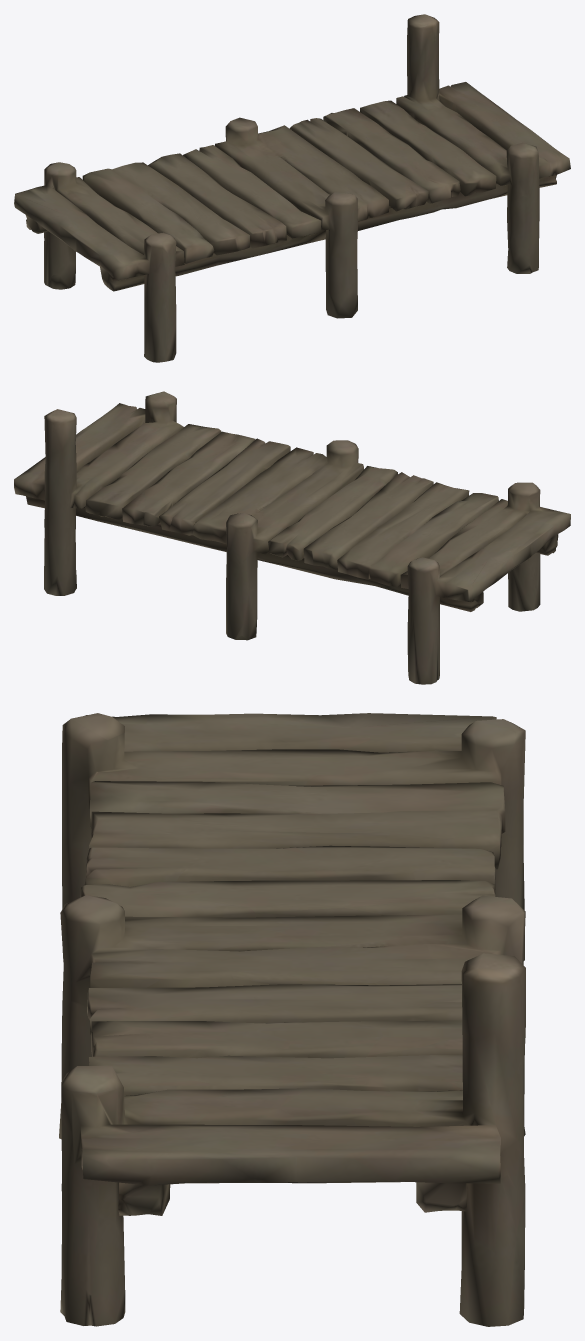
File: jetty.glb
3 views of the same model, one above another, from view 1: azimuth 30°, elevation 25°; view 2: azimuth 150°, elevation 25°; view 3: azimuth 270°, elevation 25° (orthographic). The views are drawn at different scales.
Parts seen in each view (by area): view 1: tripo_node_17eb15dd-185b-4f8b-aa5a-1e6482c768b2; view 2: tripo_node_17eb15dd-185b-4f8b-aa5a-1e6482c768b2; view 3: tripo_node_17eb15dd-185b-4f8b-aa5a-1e6482c768b2.
Boxes of the visible parts, box(x1,y1,x2,y2) form: tripo_node_17eb15dd-185b-4f8b-aa5a-1e6482c768b2: box(14, 14, 570, 362); tripo_node_17eb15dd-185b-4f8b-aa5a-1e6482c768b2: box(14, 391, 570, 684); tripo_node_17eb15dd-185b-4f8b-aa5a-1e6482c768b2: box(59, 713, 525, 1326).
Bounding box in the file's own units: 1 × 0.3694 × 0.4449.
Materials: 1 (1 with a texture image).
